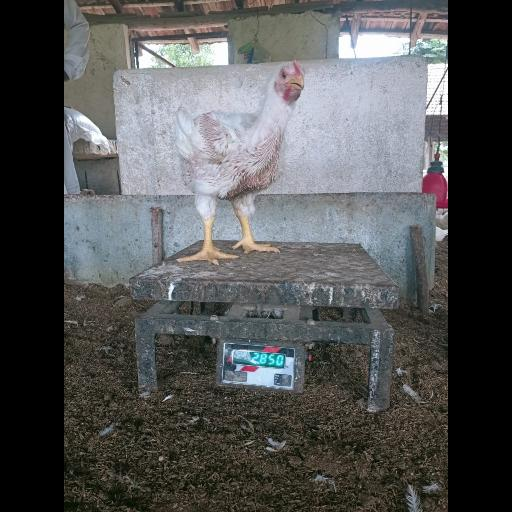chick: (175, 60, 307, 264)
